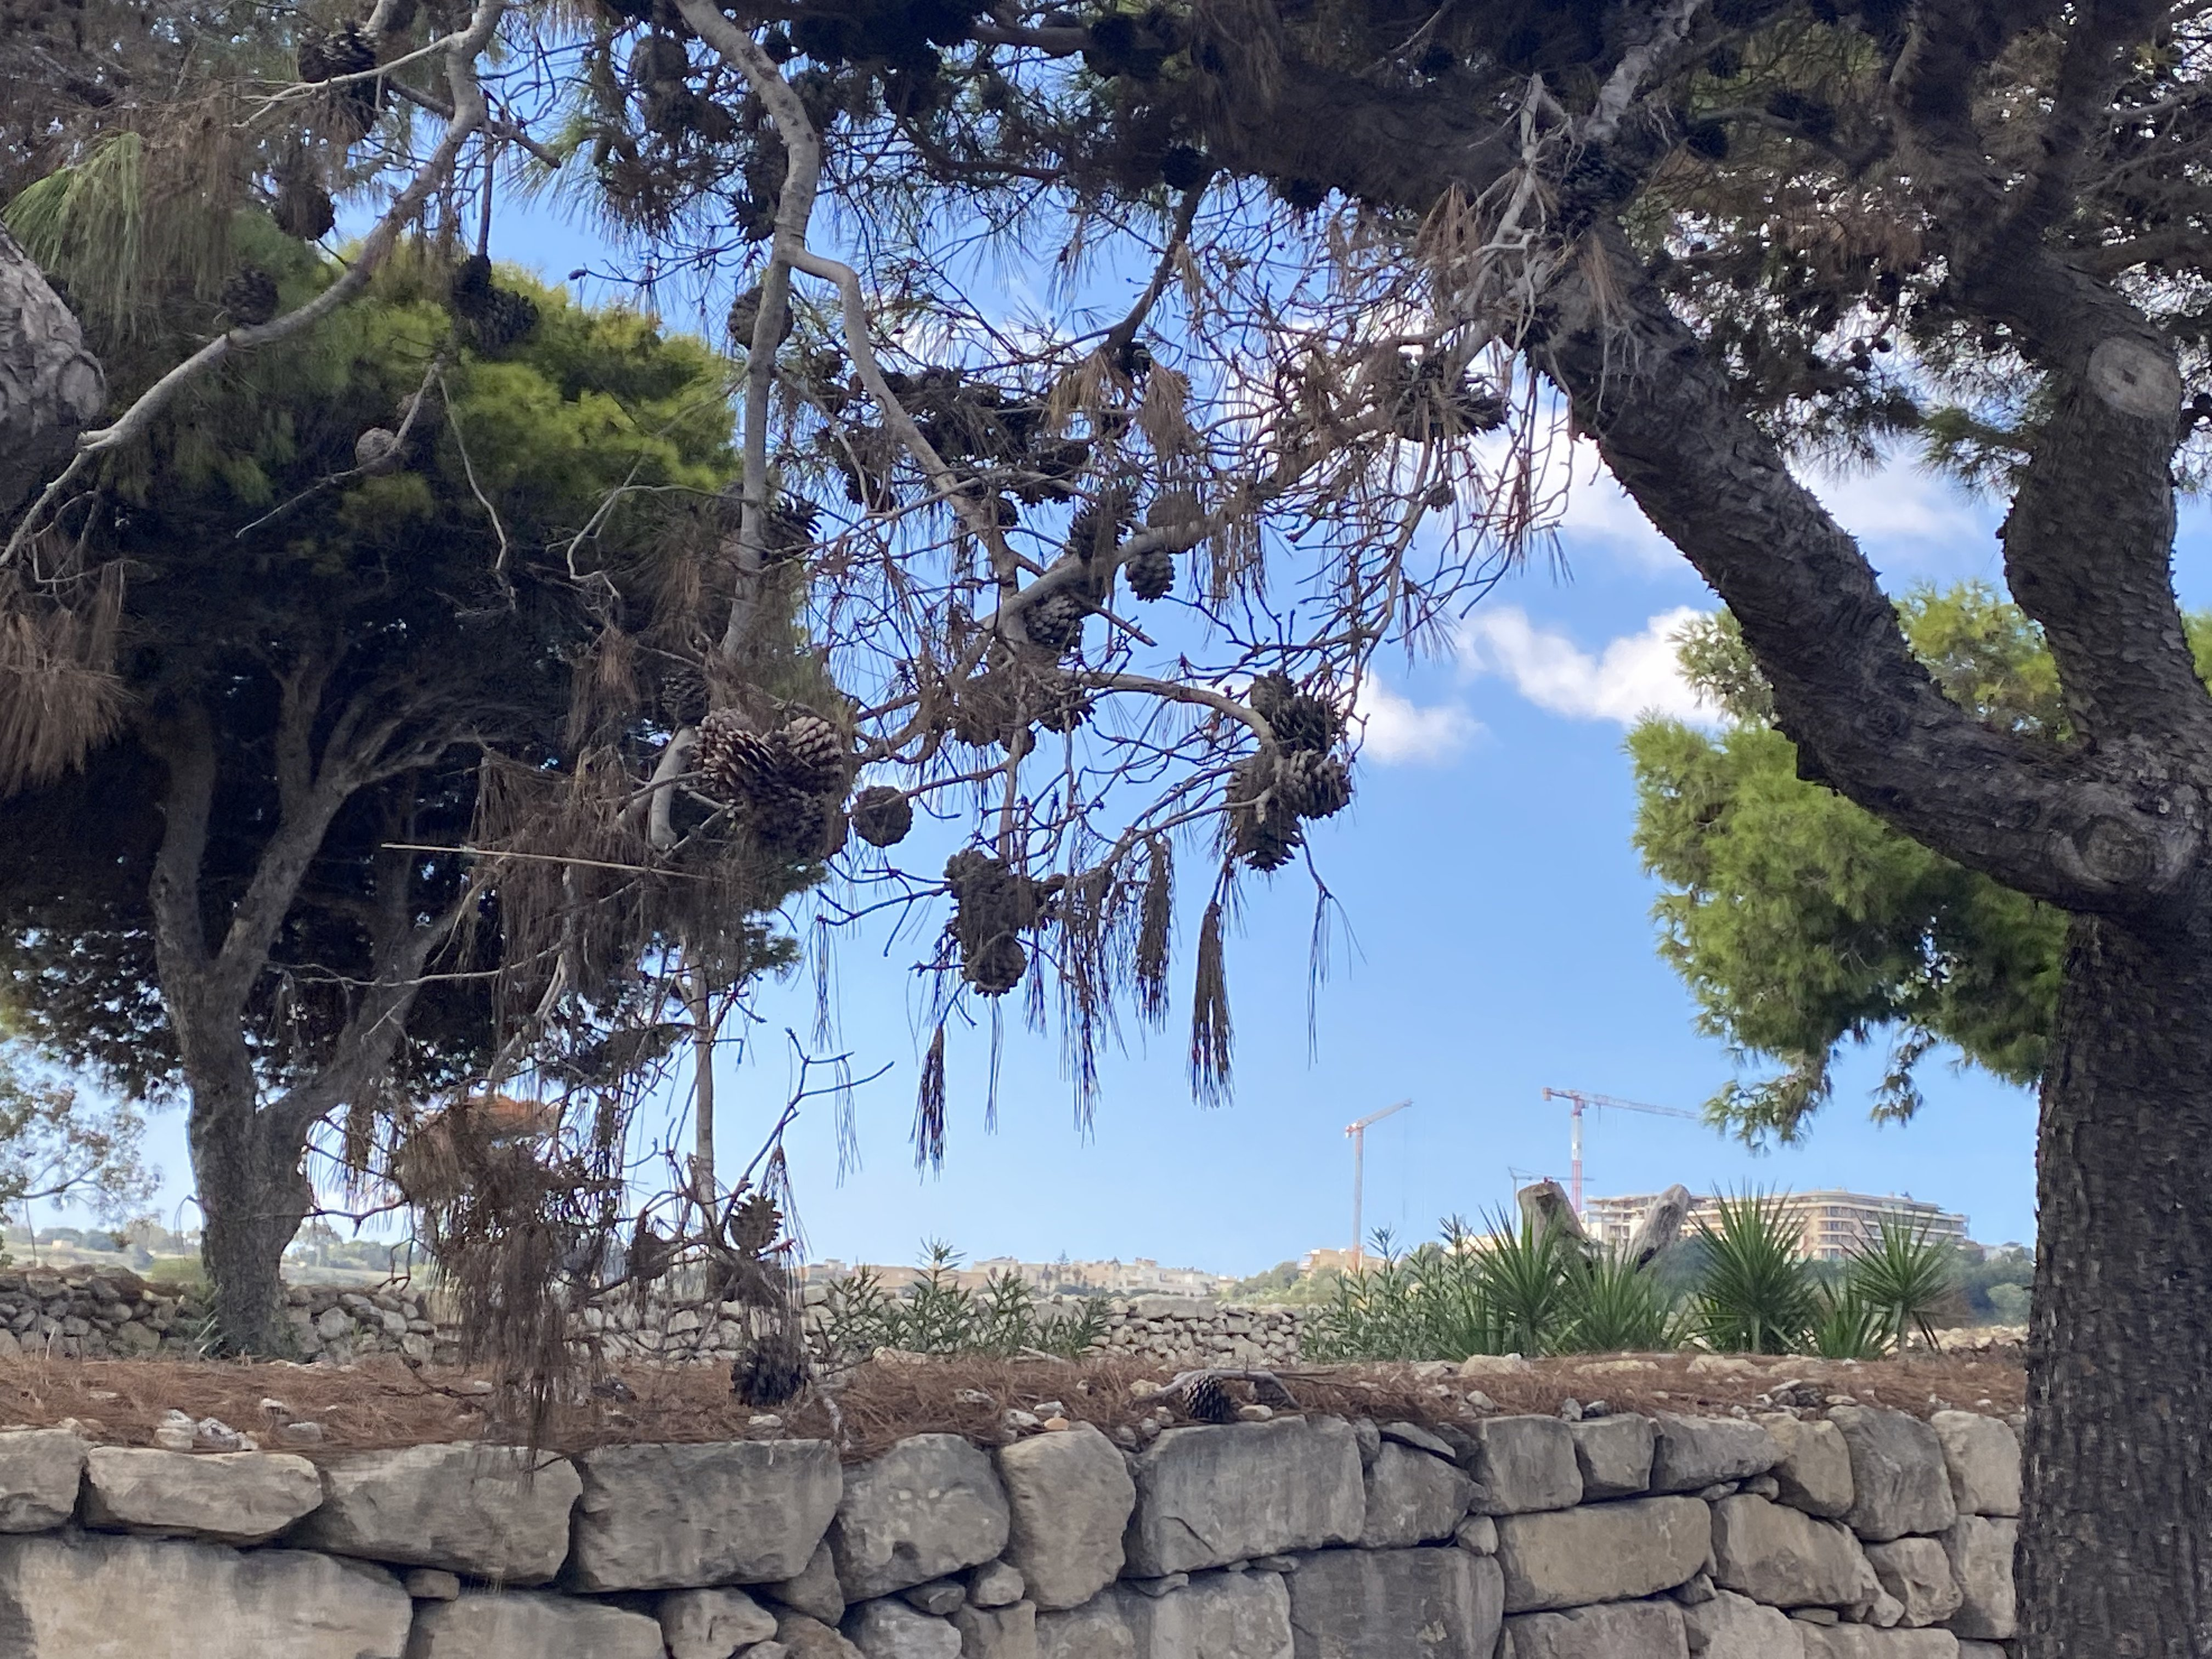crane: (1514, 1037, 1695, 1188), (1326, 1079, 1427, 1239)
